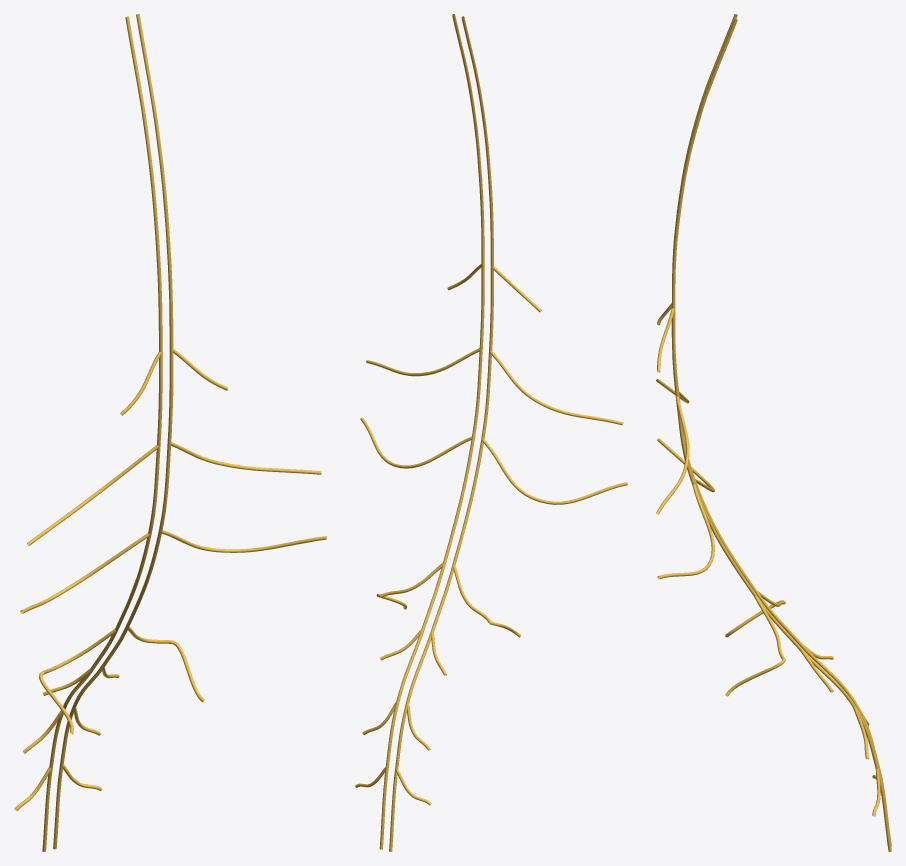
Rendered from nervoso-cauda-equina.glb.
3 views of the same model, side by side, from view 1: azimuth 30°, elevation 25°; view 2: azimuth 150°, elevation 25°; view 3: azimuth 270°, elevation 25° (orthographic). The views are drawn at different scales.
Visible parts, largest first — view 1: Cauda equina; view 2: Cauda equina; view 3: Cauda equina.
Part boxes in pixels (<box>): Cauda equina: <box>14,14,326,851</box>; Cauda equina: <box>355,14,627,851</box>; Cauda equina: <box>656,14,891,851</box>.
Size of the model in its own units: 0.0962 by 0.2689 by 0.069.
